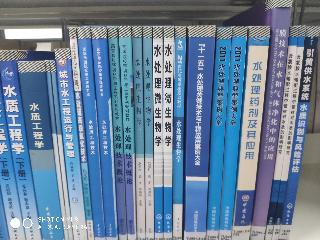book-spine: (247, 0, 291, 240), (278, 26, 318, 240), (231, 25, 269, 240), (18, 61, 63, 240), (0, 50, 40, 240), (272, 26, 305, 240), (266, 26, 296, 240), (184, 26, 214, 239), (218, 26, 247, 239), (56, 49, 86, 240), (78, 27, 104, 239), (92, 27, 117, 239), (205, 27, 230, 239), (70, 28, 93, 239), (51, 62, 73, 240), (46, 63, 67, 240), (0, 86, 24, 240), (119, 27, 136, 240), (109, 28, 125, 240), (172, 28, 185, 239), (133, 27, 145, 239), (162, 27, 173, 239), (144, 28, 154, 239), (154, 27, 162, 239)
